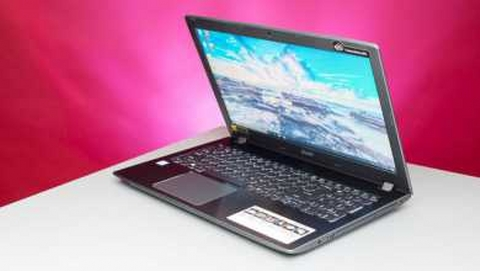pc: (112, 14, 414, 255)
